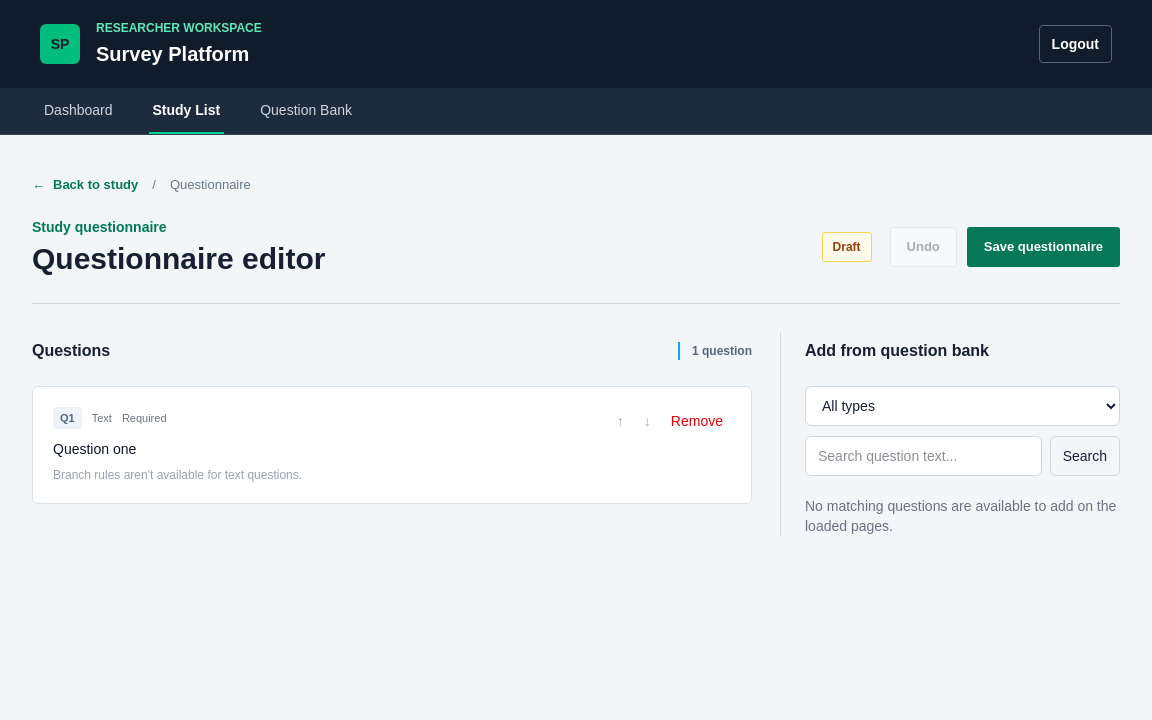
Test case: M4 questionnaire editor browser behavior › renders the QUESTIONNAIRE_VERSION_CONFLICT save state
This screenshot has width=1152, height=720.
expect the text "Question one" is shown: met, box [53, 441, 136, 457]
What coordinates should you click on to do the following:
click the button "Save questionnaire"
I would click on:
 (1043, 246)
Its box is [967, 226, 1120, 266].
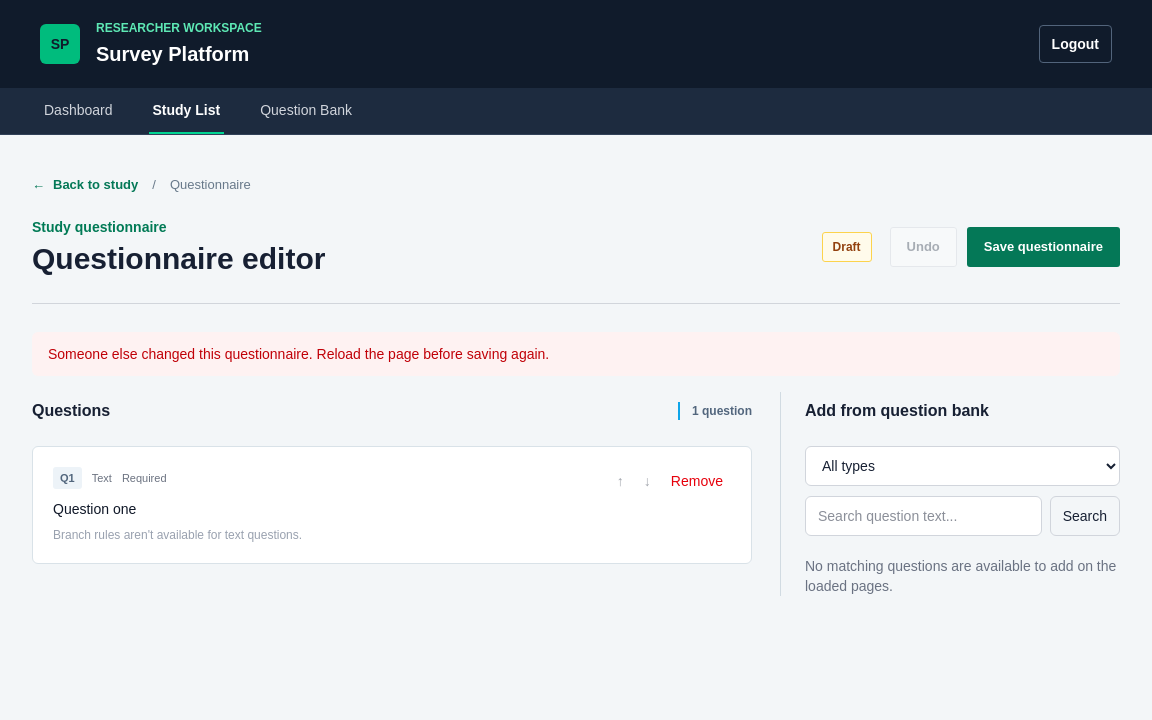
expect the message reads "Someone else changed this questionnaire. Reload the page before saving again.": met, box [48, 346, 549, 362]
